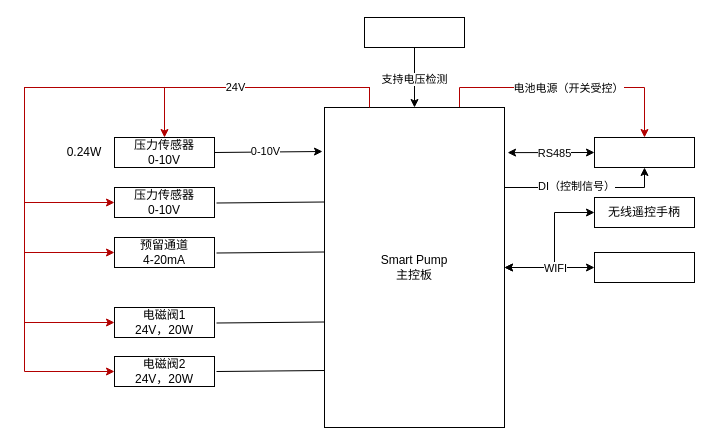
The diagram is 712 pixels wide and 445 high, and some of its shapes have lost their labels. The box of each missing label's shape, as (x1, y1, x2, y2) in pixels:
PC: (594, 252, 694, 282)
一体化伺服电机: (594, 136, 694, 168)
电池 48.2-54.6V: (364, 16, 464, 48)
